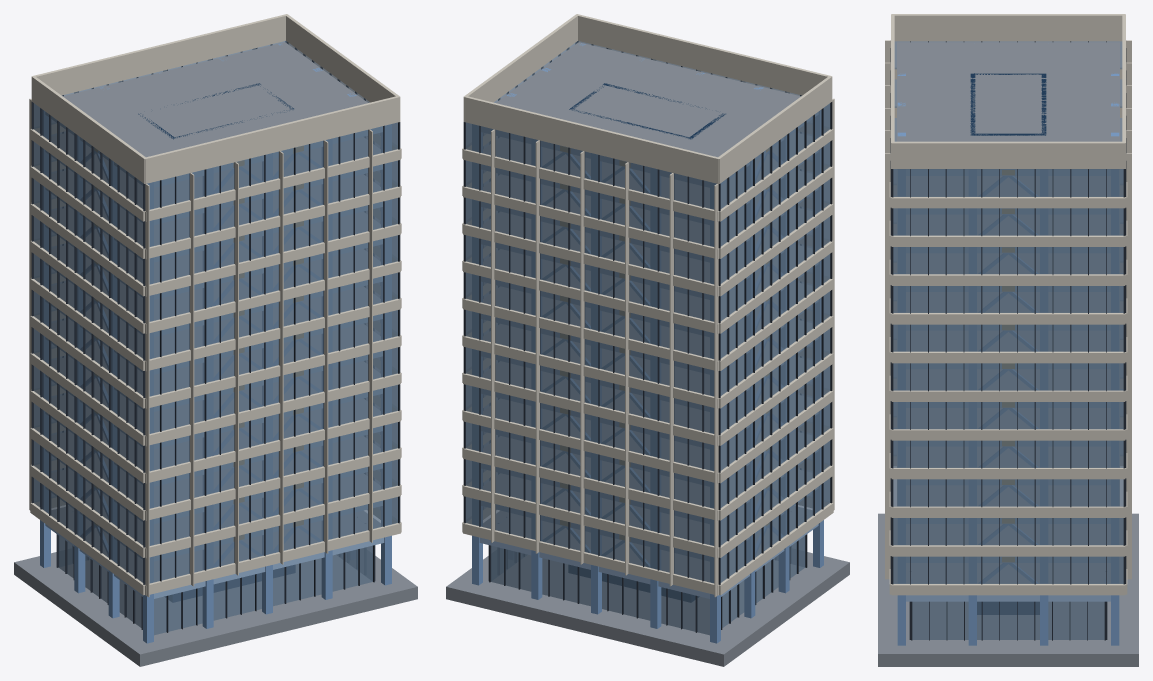
The model's file is edificio-desains.glb.
The picture shows the model from 3 angles, left to right: view 1: azimuth 30°, elevation 25°; view 2: azimuth 150°, elevation 25°; view 3: azimuth 270°, elevation 25°; orthographic projection. The views are drawn at different scales.
Visible parts, largest first — view 1: Nivel_12_Bandas, Nivel_12_Losa, Cimentacion, Parteluces, Nivel_11_Vidrio, Nivel_04_Vidrio, Nivel_08_Vidrio, Nivel_06_Vidrio, Nivel_07_Vidrio, Nivel_10_Vidrio, Nivel_02_Vidrio, Nivel_03_Vidrio (+63 smaller); view 2: Nivel_12_Bandas, Nivel_12_Losa, Cimentacion, Parteluces, Nivel_11_Vidrio, Nivel_04_Vidrio, Nivel_08_Vidrio, Nivel_06_Vidrio, Nivel_07_Vidrio, Nivel_10_Vidrio, Nivel_02_Vidrio, Nivel_03_Vidrio (+64 smaller); view 3: Nivel_12_Losa, Cimentacion, Nivel_12_Bandas, Nivel_11_Vidrio, Nivel_00_Vidrio, Nivel_10_Vidrio, Nivel_09_Vidrio, Nivel_06_Vidrio, Nivel_01_Vidrio, Nivel_02_Vidrio, Nivel_05_Vidrio, Nivel_03_Vidrio (+64 smaller).
Part boxes in pixels (<box>): Nivel_12_Bandas: <box>31,14,400,183</box>; Nivel_12_Losa: <box>63,42,367,157</box>; Cimentacion: <box>14,552,417,666</box>; Parteluces: <box>29,49,372,597</box>; Nivel_11_Vidrio: <box>33,41,397,209</box>; Nivel_04_Vidrio: <box>33,356,397,471</box>; Nivel_08_Vidrio: <box>33,206,397,321</box>; Nivel_06_Vidrio: <box>33,281,397,396</box>; Nivel_07_Vidrio: <box>33,244,397,359</box>; Nivel_10_Vidrio: <box>33,132,397,246</box>; Nivel_02_Vidrio: <box>33,431,397,545</box>; Nivel_03_Vidrio: <box>33,393,397,508</box>; Nivel_12_Bandas: <box>463,14,832,183</box>; Nivel_12_Losa: <box>496,42,800,157</box>; Cimentacion: <box>446,552,849,666</box>; Parteluces: <box>491,49,834,597</box>; Nivel_11_Vidrio: <box>466,41,830,209</box>; Nivel_04_Vidrio: <box>466,356,830,471</box>; Nivel_08_Vidrio: <box>466,206,830,321</box>; Nivel_06_Vidrio: <box>466,281,830,396</box>; Nivel_07_Vidrio: <box>466,244,830,359</box>; Nivel_10_Vidrio: <box>466,132,830,246</box>; Nivel_02_Vidrio: <box>466,431,830,545</box>; Nivel_03_Vidrio: <box>466,393,830,508</box>; Nivel_12_Losa: <box>897,42,1119,141</box>; Cimentacion: <box>878,513,1138,666</box>; Nivel_12_Bandas: <box>891,14,1125,168</box>; Nivel_11_Vidrio: <box>893,41,1123,196</box>; Nivel_00_Vidrio: <box>912,601,1104,639</box>; Nivel_10_Vidrio: <box>893,79,1123,235</box>; Nivel_09_Vidrio: <box>893,118,1123,274</box>; Nivel_06_Vidrio: <box>893,247,1123,390</box>; Nivel_01_Vidrio: <box>893,428,1123,583</box>; Nivel_02_Vidrio: <box>893,389,1123,545</box>; Nivel_05_Vidrio: <box>893,273,1123,429</box>; Nivel_03_Vidrio: <box>893,364,1123,506</box>.
Size of the model in its own units: 28 by 48.2 by 22.
